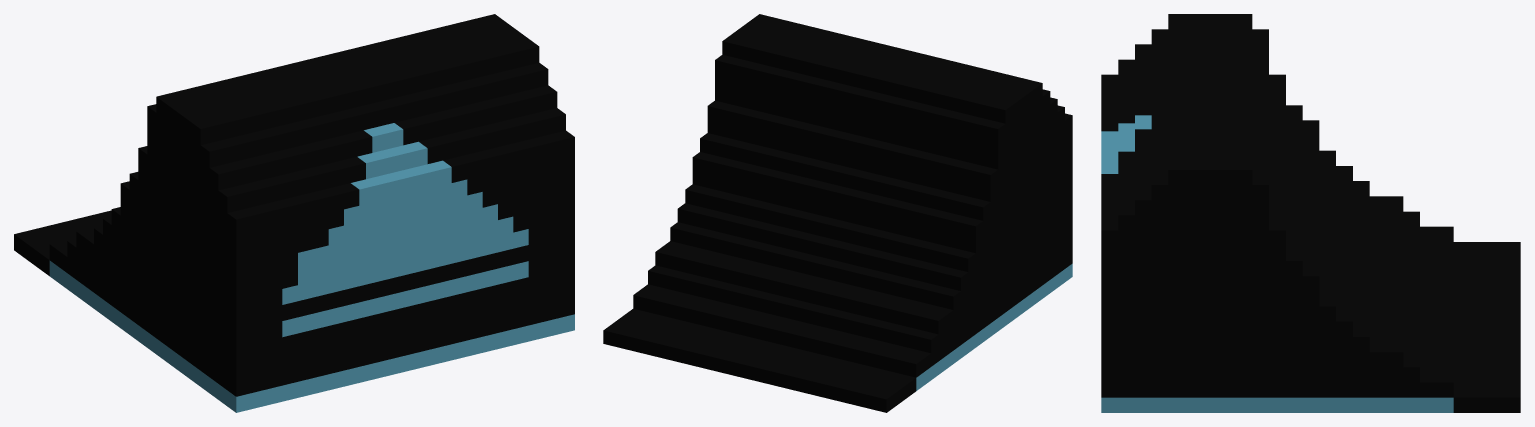
The model's file is Tremplin_seul-00.obj.
The picture shows the model from 3 angles, left to right: view 1: azimuth 30°, elevation 25°; view 2: azimuth 150°, elevation 25°; view 3: azimuth 270°, elevation 25°; orthographic projection. The views are drawn at different scales.
Bounding box in the file's own units: 22 × 16 × 25.
Materials: 1 (1 with a texture image).
